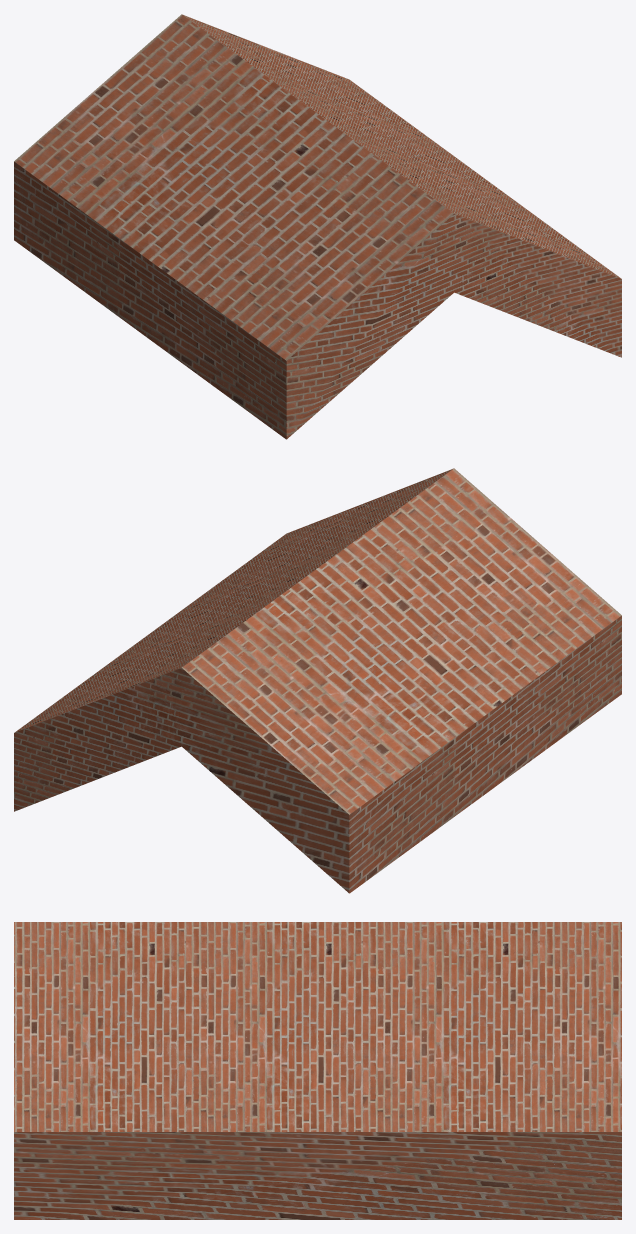
The model's file is Roof.fbx.
3 views of the same model, one above another, from view 1: azimuth 30°, elevation 25°; view 2: azimuth 150°, elevation 25°; view 3: azimuth 270°, elevation 25° (orthographic). The views are drawn at different scales.
Visible parts, largest first — view 1: polySurface129; view 2: polySurface129; view 3: polySurface129.
Boxes of the visible parts, bbox=[...] form: polySurface129: bbox=[14, 14, 621, 439]; polySurface129: bbox=[14, 468, 621, 893]; polySurface129: bbox=[14, 922, 621, 1219].
Size of the model in its own units: 10.2 by 5.38 by 14.35.
1 material, 1 textured.
